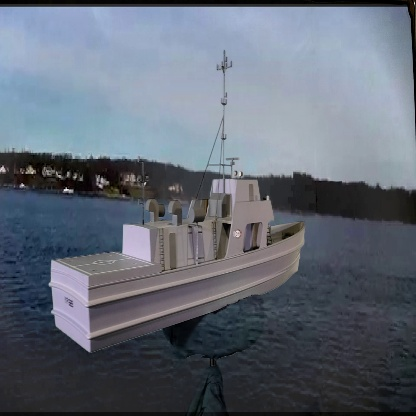YP689: (49, 49, 306, 354)
